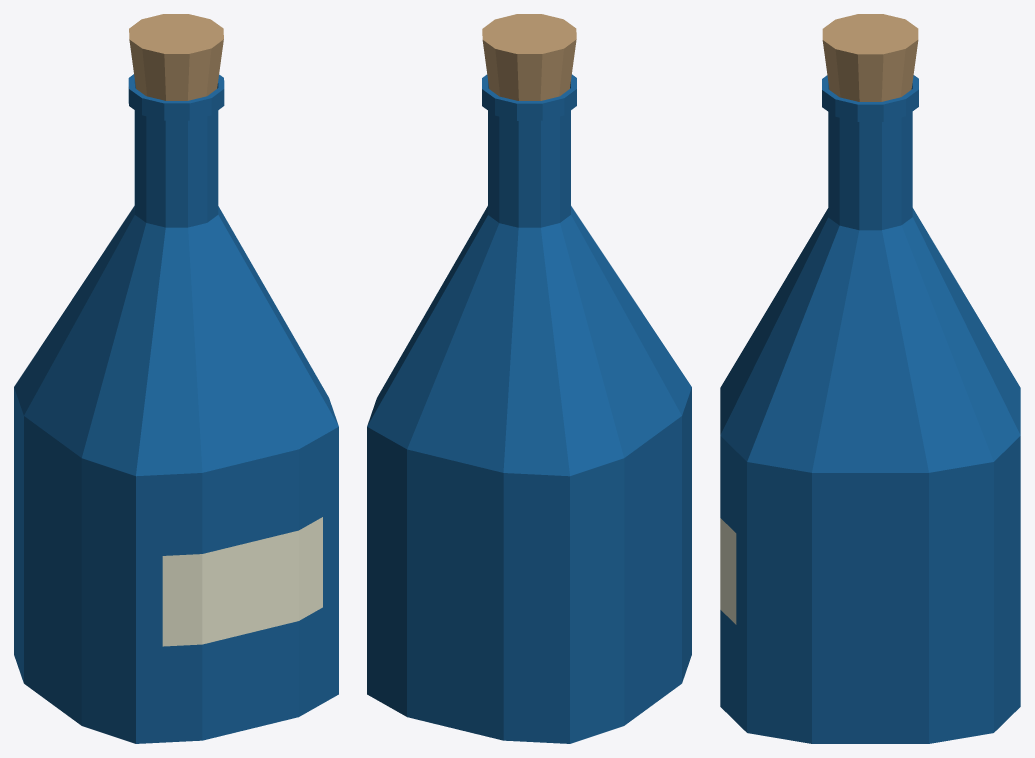
The model's file is potion_blue_2.fbx.
3 renders of one model, left to right at view 1: azimuth 30°, elevation 25°; view 2: azimuth 150°, elevation 25°; view 3: azimuth 270°, elevation 25°, orthographic.
Parts seen in each view (by area): view 1: potion_blue_2; view 2: potion_blue_2; view 3: potion_blue_2.
Part boxes in pixels (left/top/right/bottom): potion_blue_2: left=14, top=14, right=338, bottom=743; potion_blue_2: left=367, top=14, right=691, bottom=743; potion_blue_2: left=720, top=14, right=1020, bottom=743.
Bounding box in the file's own units: 21.3 × 52.72 × 22.13.
